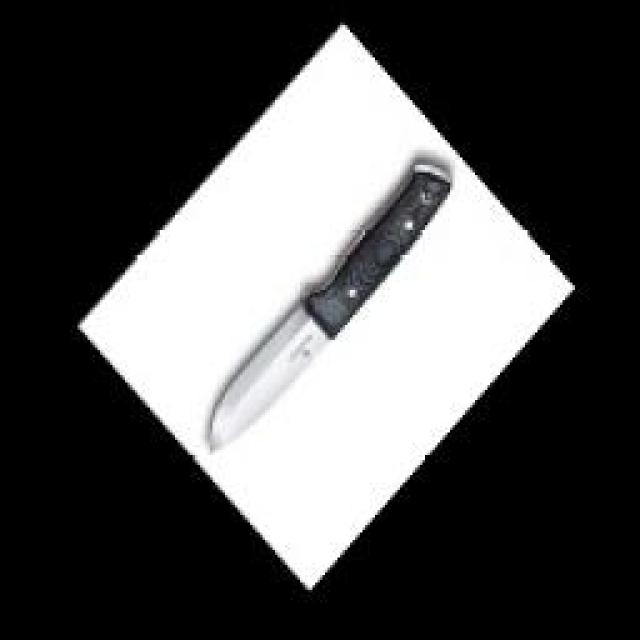knife: (202, 148, 463, 458)
